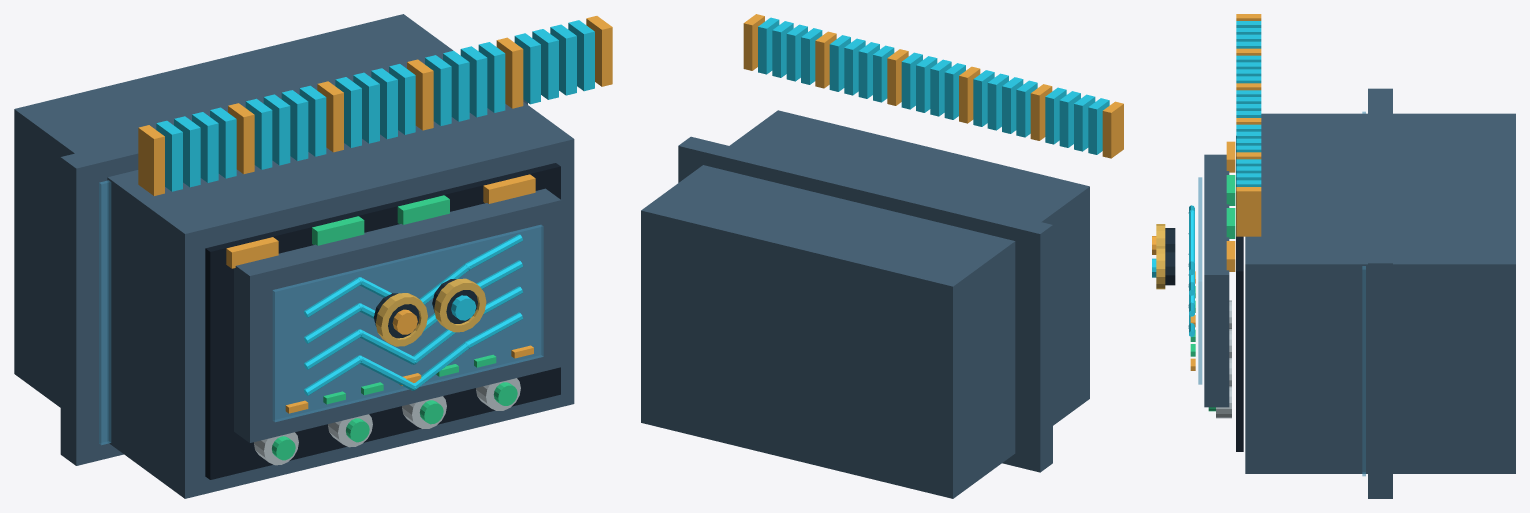
The model's file is 23_L81_ScrubCycleSequencer.fbx.
3 views of the same model, side by side, from view 1: azimuth 30°, elevation 25°; view 2: azimuth 150°, elevation 25°; view 3: azimuth 270°, elevation 25° (orthographic). The views are drawn at different scales.
Visible parts, largest first — view 1: ScrubCycleSequencer, ScrubCycleSequencer_Part_0077, ScrubCycleSequencer_Part_0078; view 2: ScrubCycleSequencer, ScrubCycleSequencer_Part_0077; view 3: ScrubCycleSequencer, ScrubCycleSequencer_Part_0077, ScrubCycleSequencer_Part_0078.
Boxes of the visible parts, x1,y1,x2,y2 form: ScrubCycleSequencer: (14,14,612,498); ScrubCycleSequencer_Part_0077: (60,99,527,465); ScrubCycleSequencer_Part_0078: (99,180,110,444); ScrubCycleSequencer: (641,14,1123,498); ScrubCycleSequencer_Part_0077: (678,136,1052,472); ScrubCycleSequencer: (1152,14,1515,473); ScrubCycleSequencer_Part_0077: (1368,88,1392,498); ScrubCycleSequencer_Part_0078: (1362,111,1365,476).
Size of the model in its own units: 118 by 95.5 by 102.
